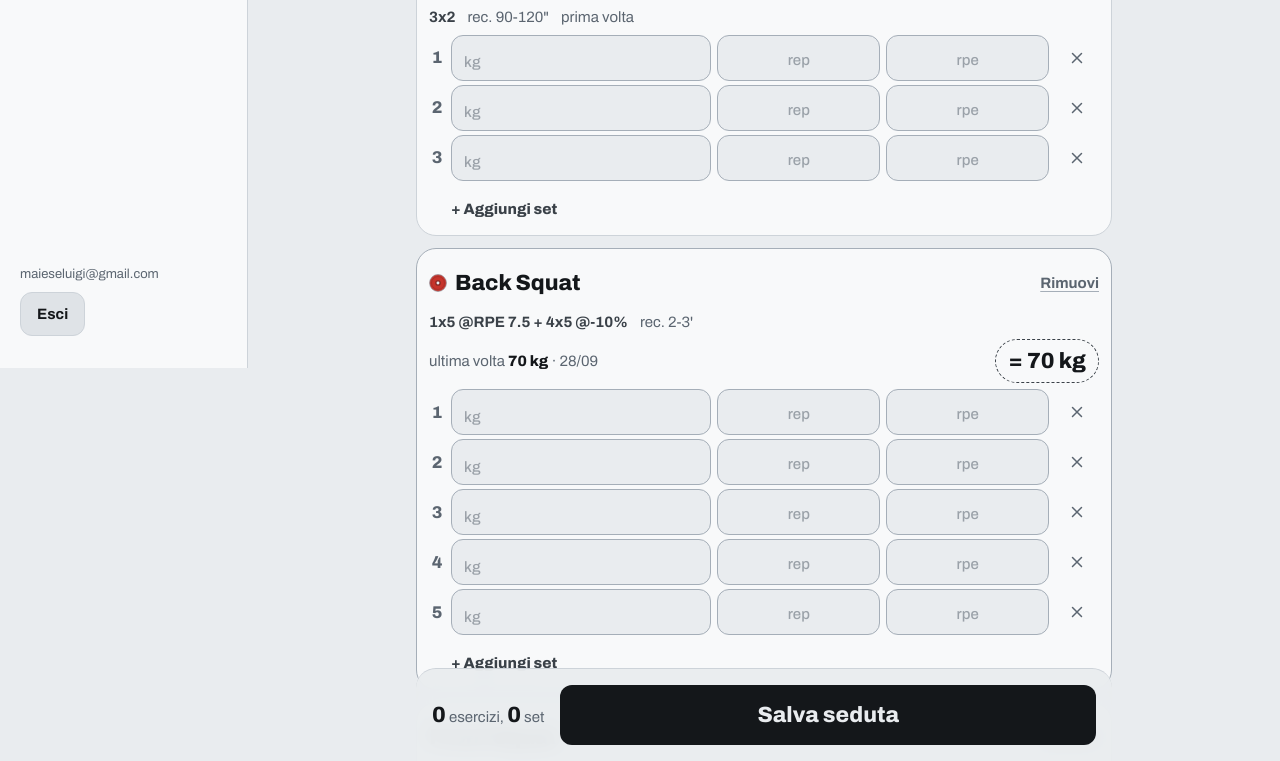
Registra › the last load is a tappable chip, never a ghost value in the field
The width and height of the screenshot is (1280, 761).
(page scrolled)
Click the button with aria-label "Usa 70 kg nel set 1 di Back Squat".
click(1047, 361)  # box [996,339,1099,383]
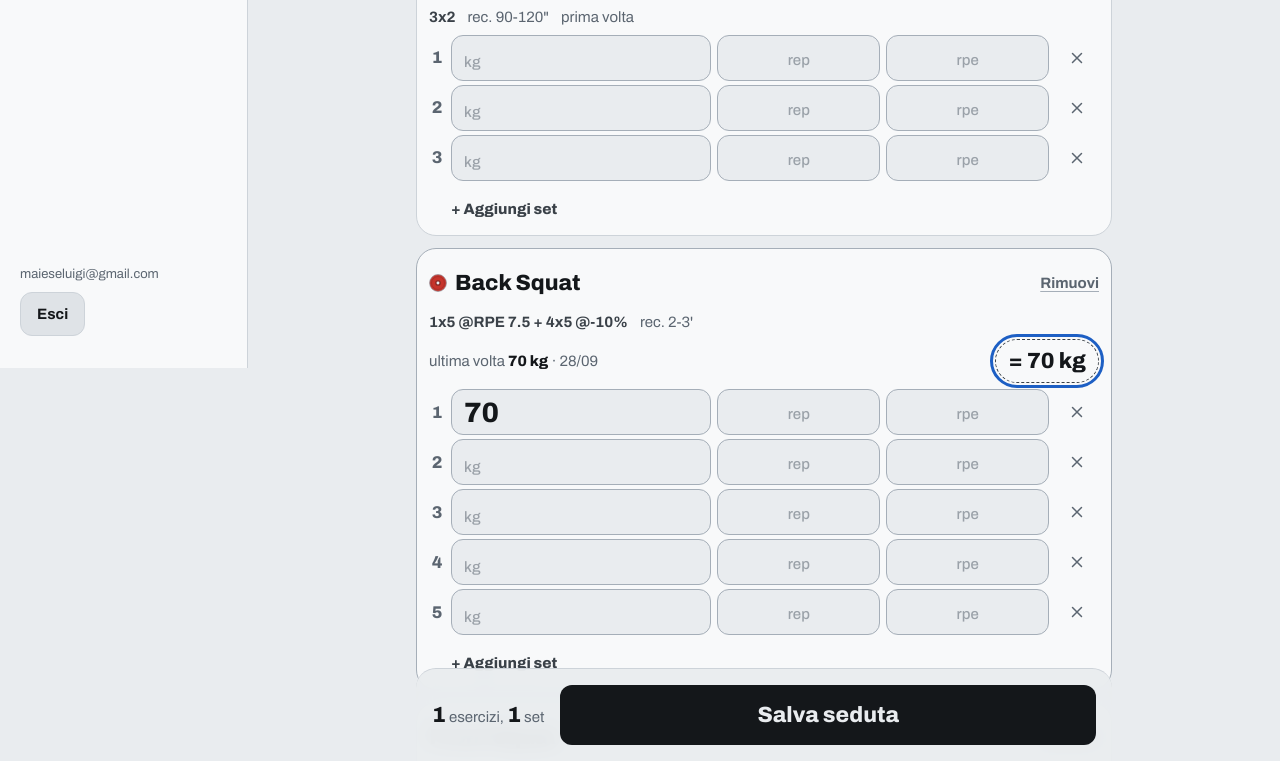
Expected: the field named "Back Squat, set 1, kg" holds "70", [451,389,711,435]
Click the button with aria-label "Usa 70 kg nel set 2 di Back Squat".
click(1047, 361)  # box [996,339,1099,383]
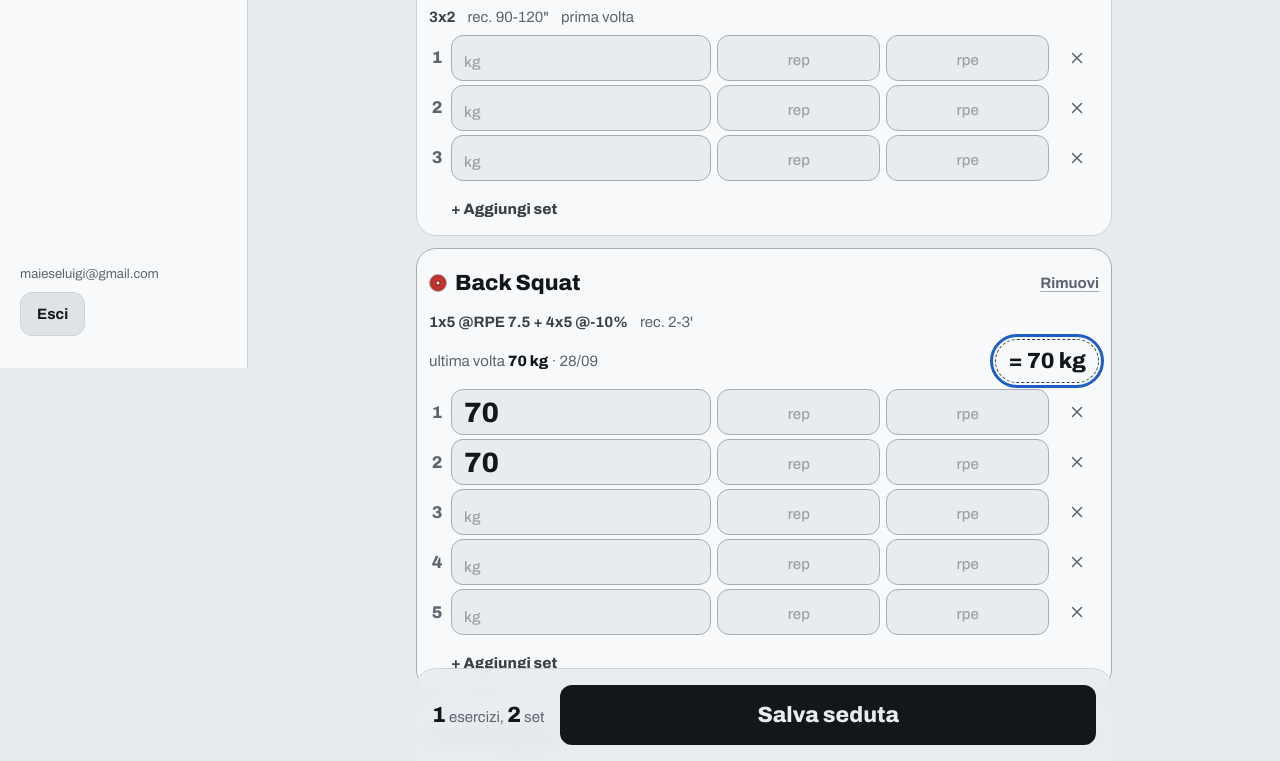
Expected: the field named "Back Squat, set 2, kg" holds "70", [451,439,711,485]
